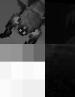altar: (0, 44, 45, 97)
crimera: (0, 0, 45, 44)
